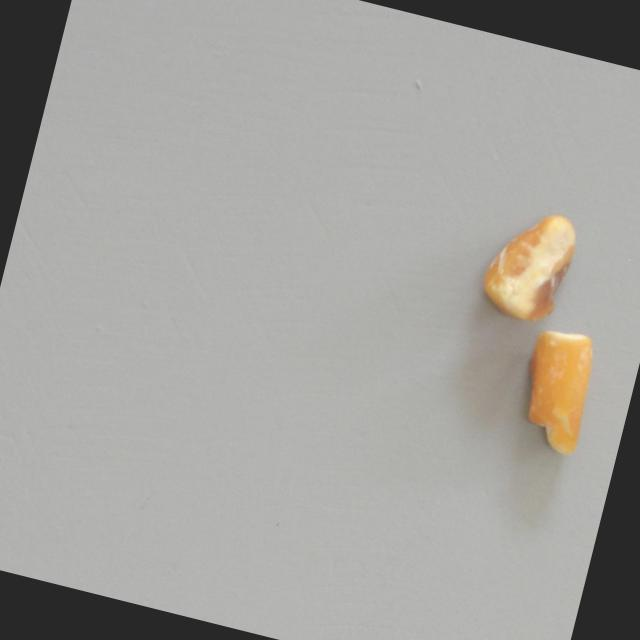dañado: (501, 319, 613, 466), (470, 200, 585, 331)
